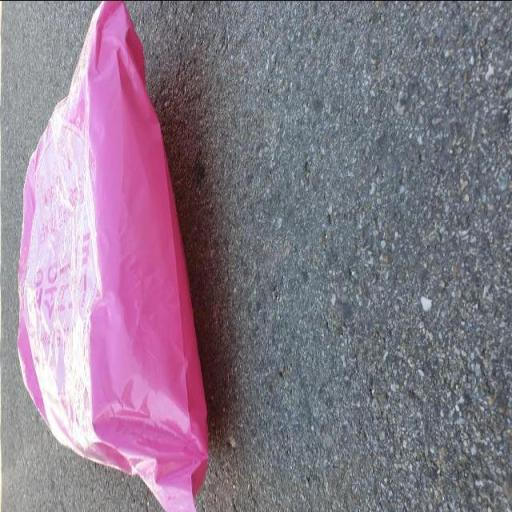plastic-bag: (14, 0, 210, 512)
